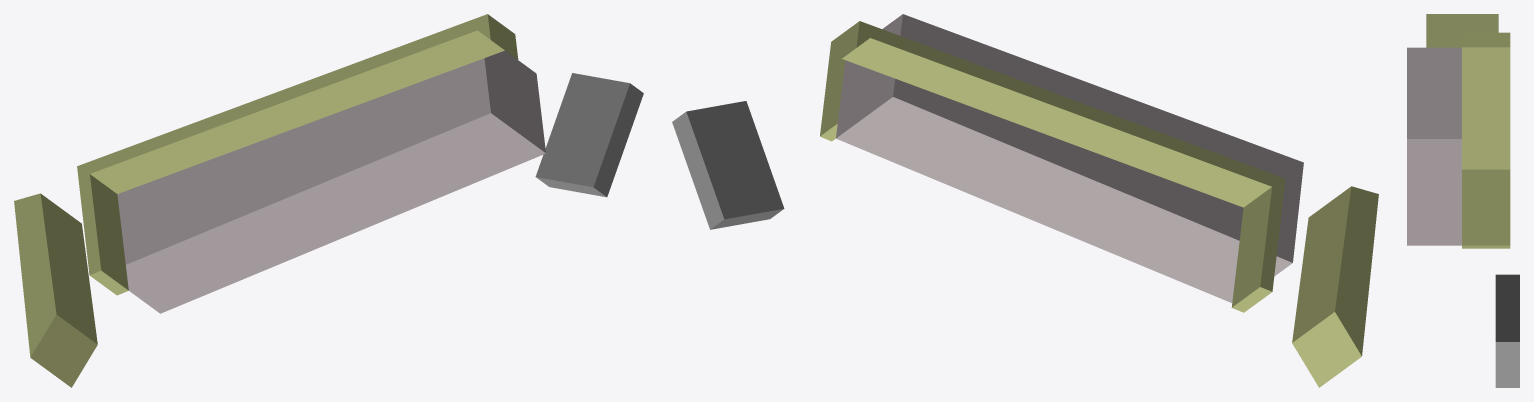
The picture shows the model from 3 angles, left to right: view 1: azimuth 30°, elevation 25°; view 2: azimuth 150°, elevation 25°; view 3: azimuth 270°, elevation 25°; orthographic projection. The views are drawn at different scales.
Parts seen in each view (by area): view 1: 0_2_0_1_2_2_2_2; view 2: 0_2_0_1_2_2_2_2; view 3: 0_2_0_1_2_2_2_2.
Part boxes in pixels (box(x1,y1,x2,y2)): 0_2_0_1_2_2_2_2: box(14, 14, 643, 387); 0_2_0_1_2_2_2_2: box(672, 14, 1378, 387); 0_2_0_1_2_2_2_2: box(1407, 14, 1519, 387).
Size of the model in its own units: 78.98 by 27.1 by 14.06.
